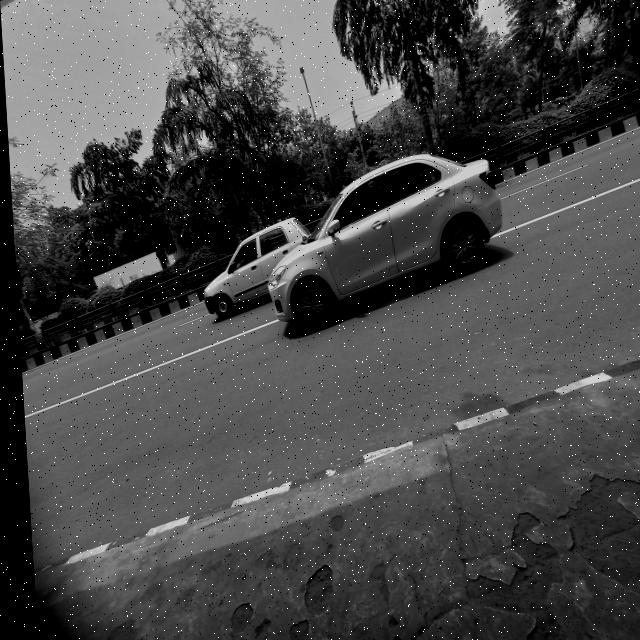car: (248, 130, 518, 348), (180, 215, 315, 320)
